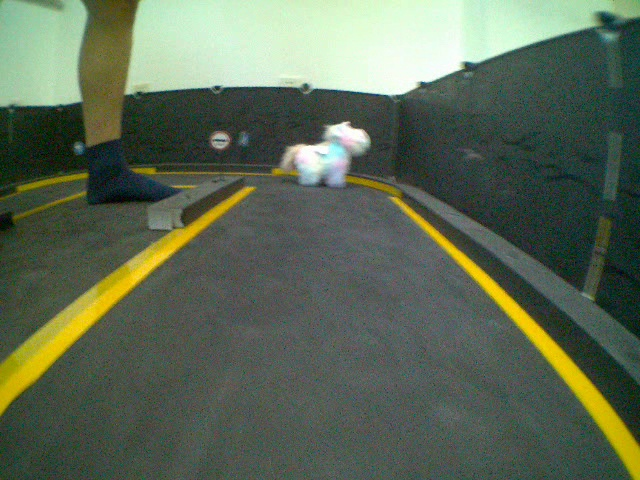unicorn: (279, 113, 375, 194)
